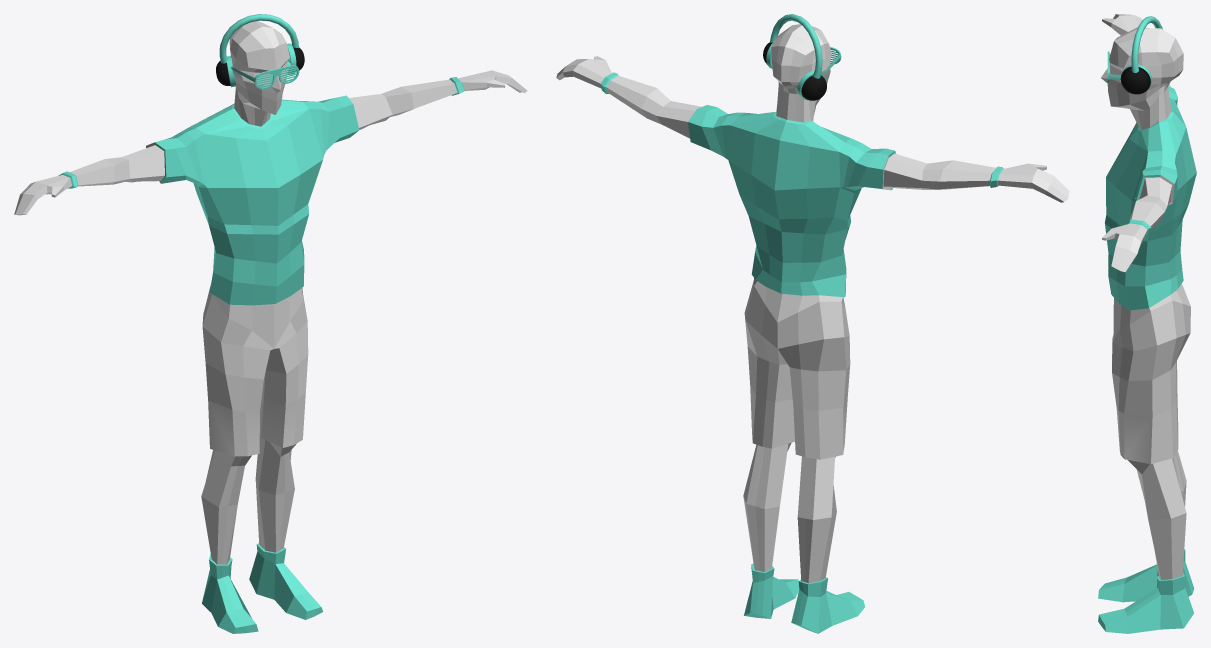
3 renders of one model, left to right at view 1: azimuth 30°, elevation 25°; view 2: azimuth 150°, elevation 25°; view 3: azimuth 270°, elevation 25°, orthographic.
Parts seen in each view (by area): view 1: DJ MAN; view 2: DJ MAN; view 3: DJ MAN.
Boxes of the visible parts, x1=… form: DJ MAN: x1=14, y1=14, x2=527, y2=633; DJ MAN: x1=556, y1=14, x2=1069, y2=633; DJ MAN: x1=1098, y1=14, x2=1196, y2=633.
Bounding box in the file's own units: 169 × 187 × 28.35.
